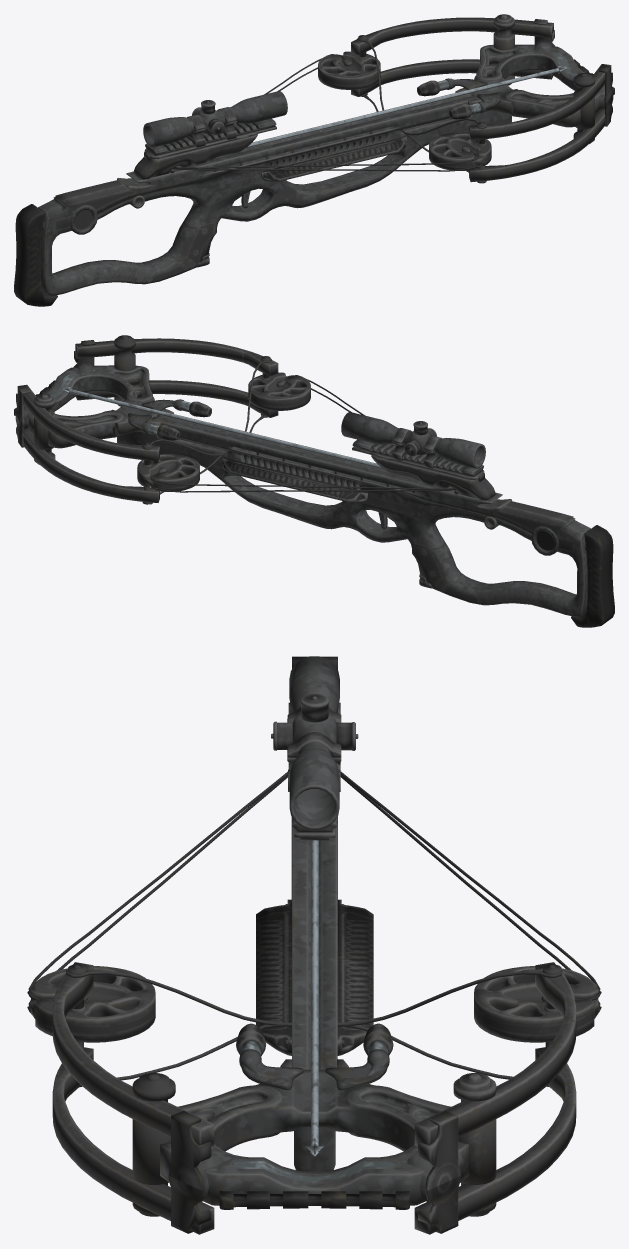
3 views of the same model, one above another, from view 1: azimuth 30°, elevation 25°; view 2: azimuth 150°, elevation 25°; view 3: azimuth 270°, elevation 25° (orthographic). The views are drawn at different scales.
Parts seen in each view (by area): view 1: Object_3, Object_4, Object_5, Object_2; view 2: Object_3, Object_4, Object_5, Object_2; view 3: Object_4, Object_2, Object_3, Object_5.
Part boxes in pixels (x1=…): Object_3: x1=38, y1=14, x2=553, y2=295; Object_4: x1=246, y1=35, x2=613, y2=182; Object_5: x1=14, y1=38, x2=491, y2=306; Object_2: x1=143, y1=19, x2=614, y2=208; Object_3: x1=17, y1=384, x2=590, y2=617; Object_4: x1=24, y1=335, x2=382, y2=504; Object_5: x1=142, y1=356, x2=614, y2=627; Object_2: x1=14, y1=380, x2=485, y2=529; Object_4: x1=52, y1=840, x2=598, y2=1234; Object_2: x1=219, y1=656, x2=460, y2=1233; Object_3: x1=288, y1=702, x2=576, y2=1234; Object_5: x1=27, y1=656, x2=601, y2=1087.
Size of the model in its own units: 1.29 by 0.3505 by 0.5615.
1 material, 1 textured.
